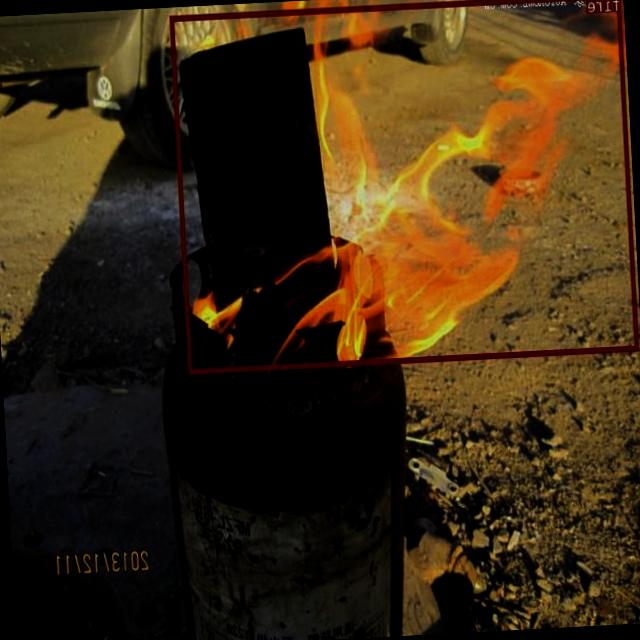fire: (170, 0, 639, 373)
